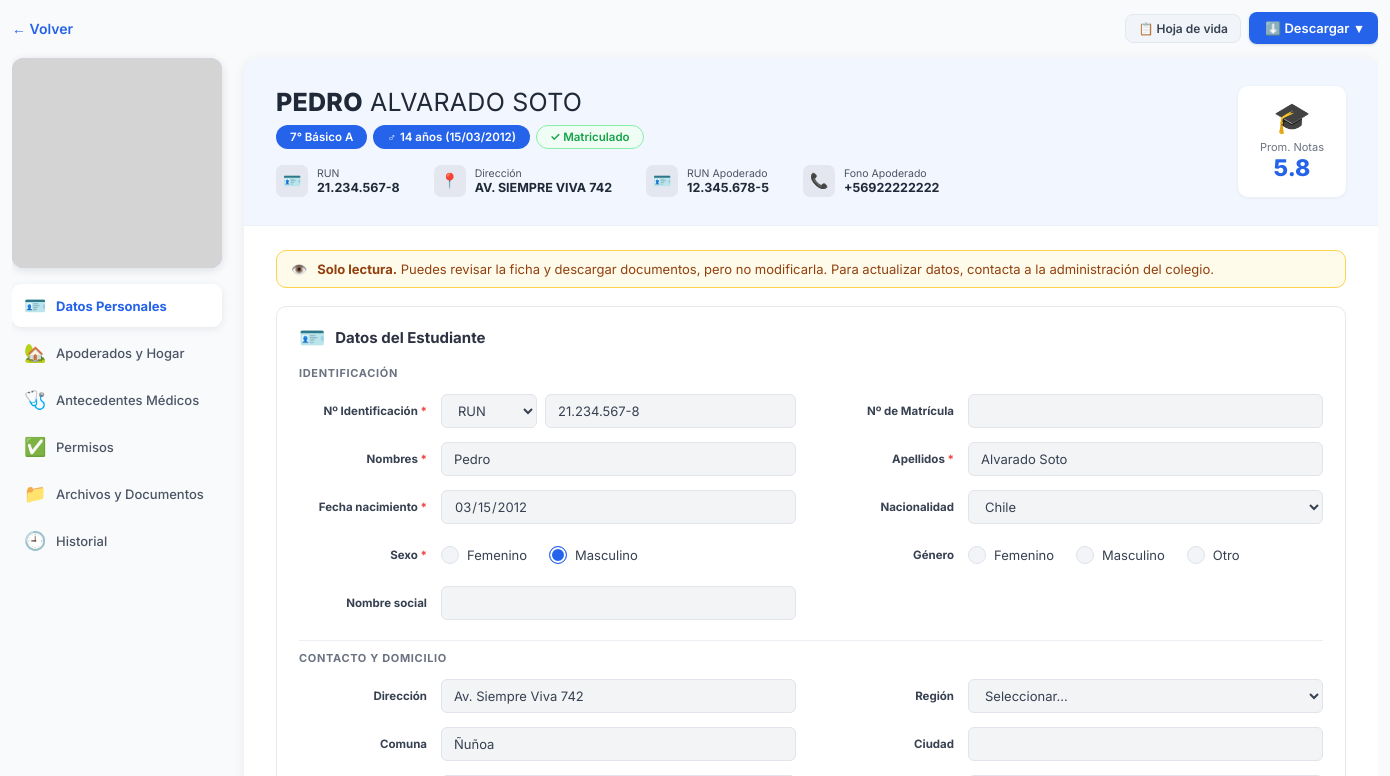
it: modo solo lectura oculta controles de edición
Expected: the heading "Pedro Alvarado Soto" is shown, top-left (276, 87), bottom-right (582, 117)
Expected: the element that starts with "Solo lectura." is shown, top-left (317, 261), bottom-right (397, 277)
Click the button "📁 Archivos y Documentos". click: (117, 494)
box: top-left (12, 472), bottom-right (222, 515)
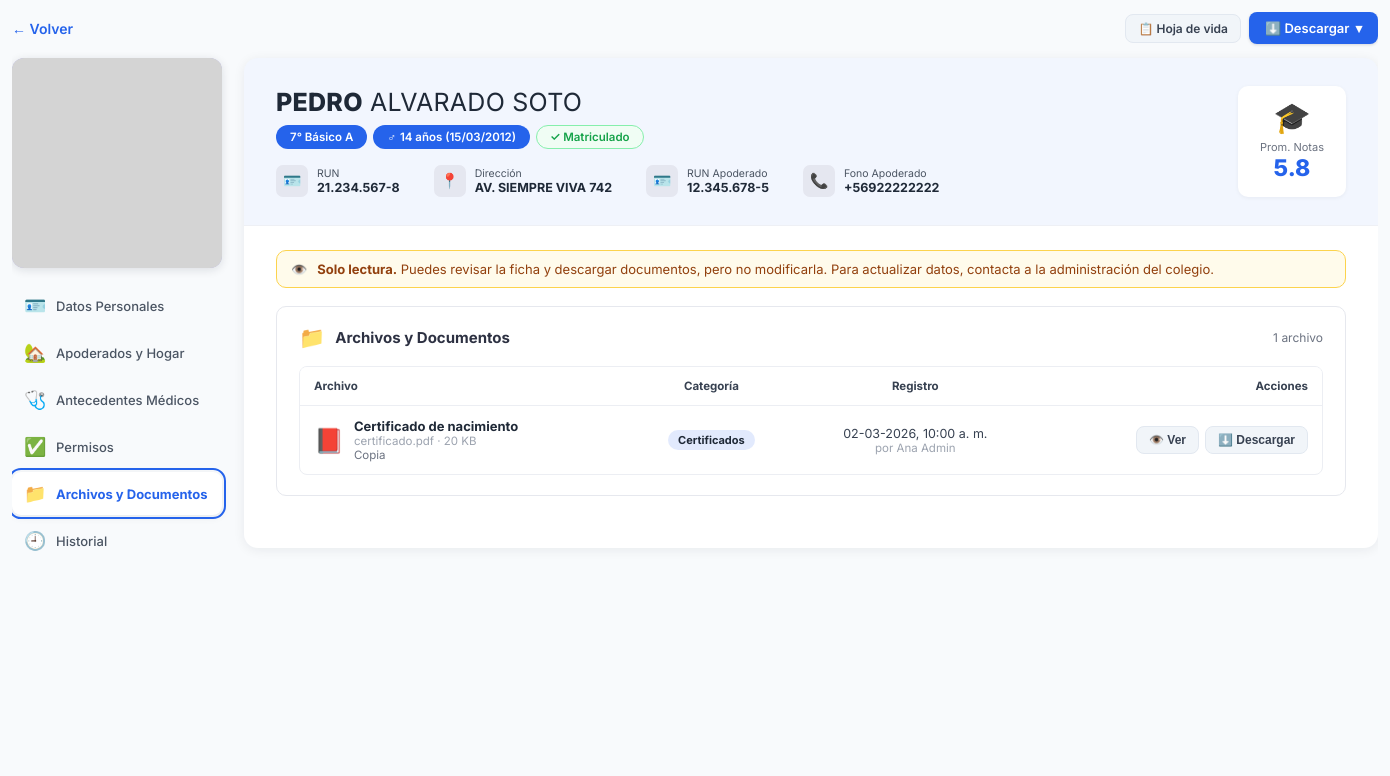
Now the text "Certificado de nacimiento" is shown, box top-left (354, 418), bottom-right (518, 434)
